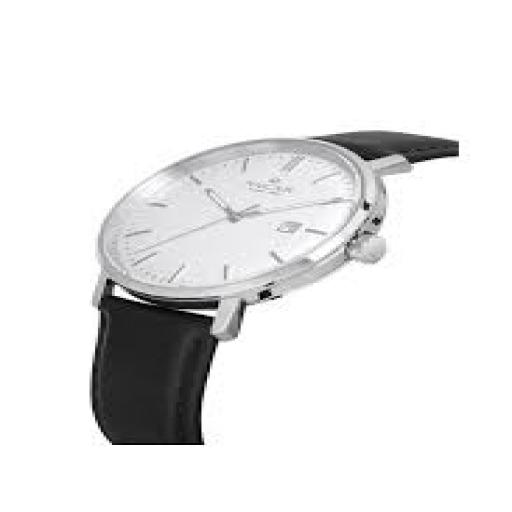KolSaati: (29, 84, 470, 452)
